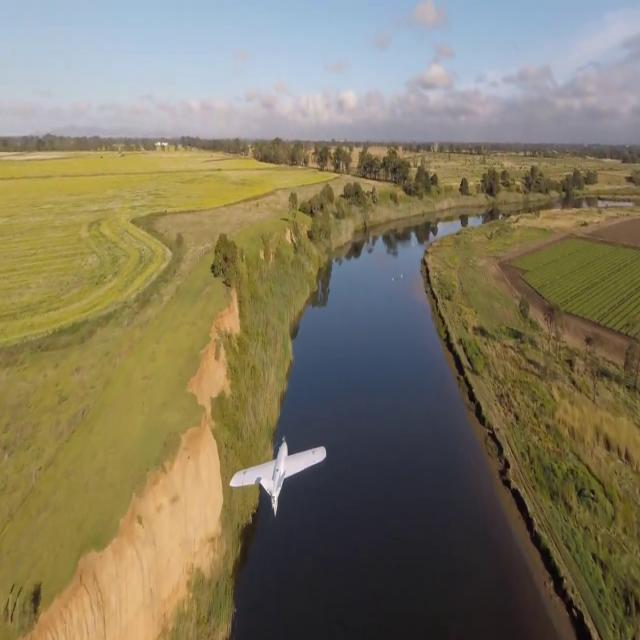iha: (262, 469, 296, 484)
